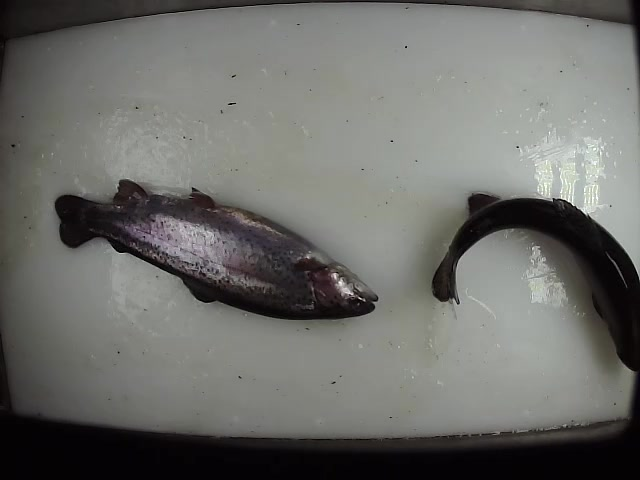fish: (52, 175, 381, 322), (429, 187, 640, 372)
